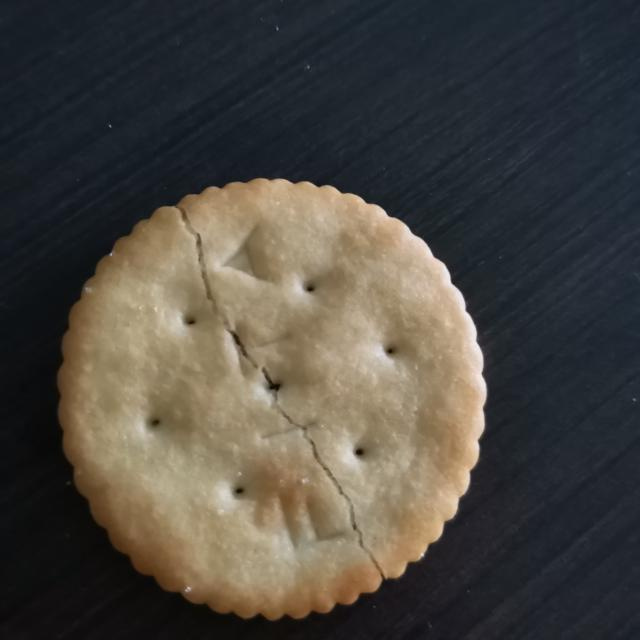Fracture: (152, 192, 411, 593)
